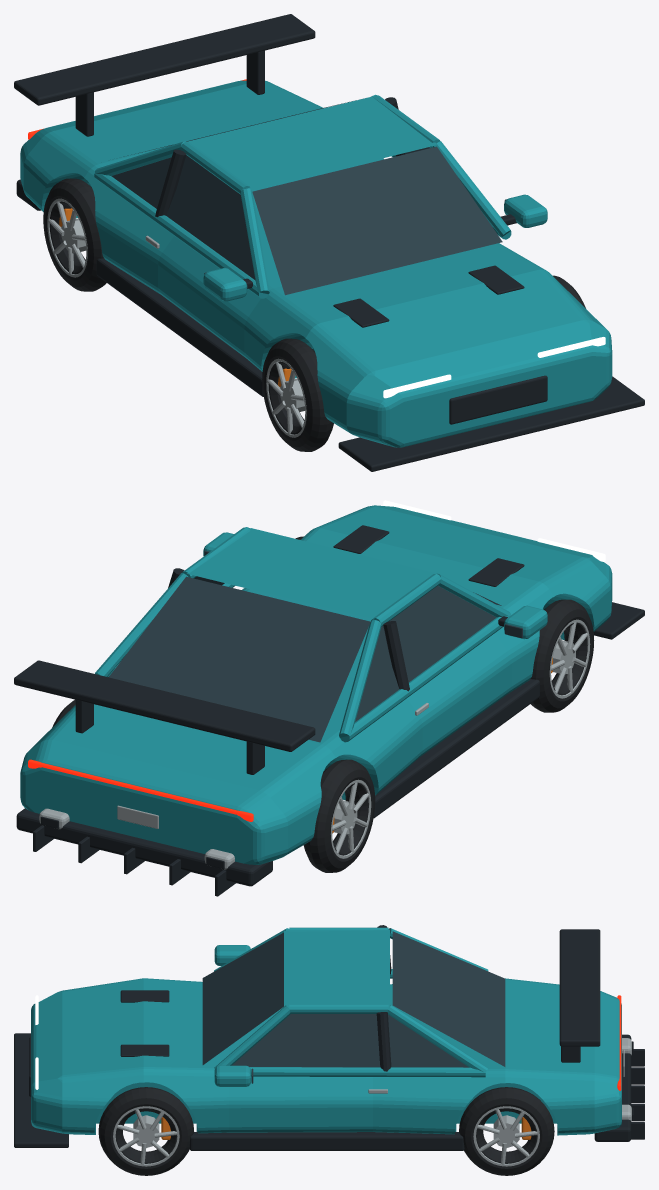
The model's file is astra-s9.glb.
The picture shows the model from 3 angles, top to bottom: view 1: azimuth 30°, elevation 25°; view 2: azimuth 150°, elevation 25°; view 3: azimuth 270°, elevation 25°; orthographic projection. The views are drawn at different scales.
Visible parts, largest first — view 1: Astra_S9_body, wheel_FL, wheel_RL; view 2: Astra_S9_body, wheel_RL, wheel_FL; view 3: Astra_S9_body, wheel_FR, wheel_RR.
Part boxes in pixels (x1=…): Astra_S9_body: x1=14, y1=14, x2=644, y2=471; wheel_FL: x1=262, y1=338, x2=333, y2=451; wheel_RL: x1=43, y1=178, x2=106, y2=291; Astra_S9_body: x1=14, y1=500, x2=644, y2=896; wheel_RL: x1=303, y1=759, x2=375, y2=872; wheel_FL: x1=530, y1=599, x2=594, y2=712; Astra_S9_body: x1=14, y1=925, x2=644, y2=1150; wheel_FR: x1=98, y1=1087, x2=193, y2=1175; wheel_RR: x1=459, y1=1087, x2=554, y2=1175.
Bounding box in the file's own units: 2.37 × 1.32 × 4.82.
